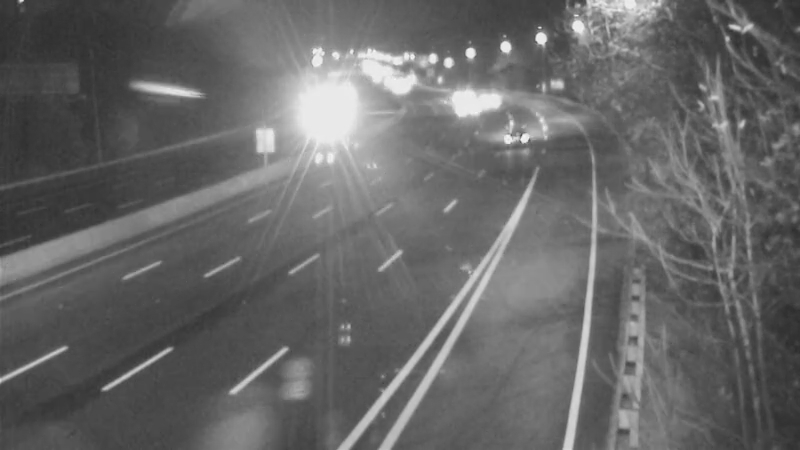vehicle: (434, 71, 484, 121), (463, 74, 513, 124), (438, 86, 488, 136), (490, 110, 540, 160), (297, 98, 347, 148)
